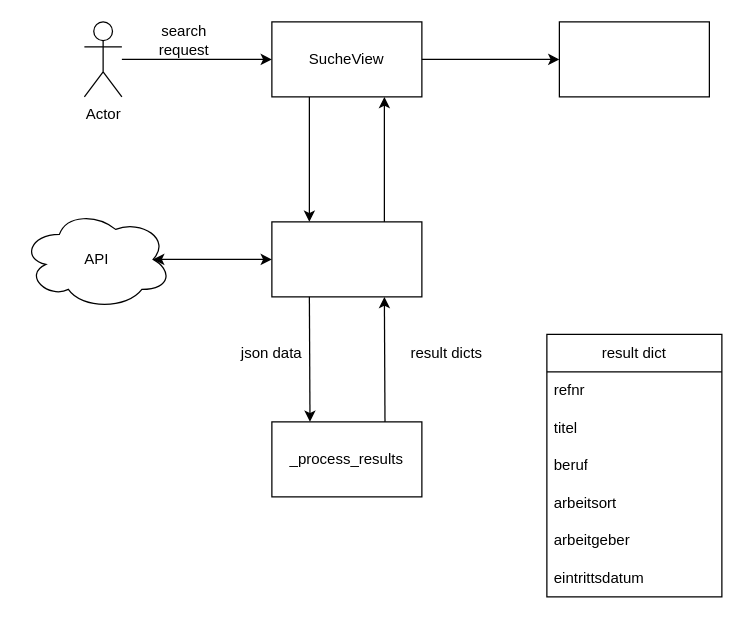
Image size: 744x619. Some labels were removed from this diagram. The shapes that lost their labels are listed below. From the top down, each one's centre as x and y in pixels, then its label:
At point (633, 59): "check watchlist/ add links".
At point (346, 259): "_search".
